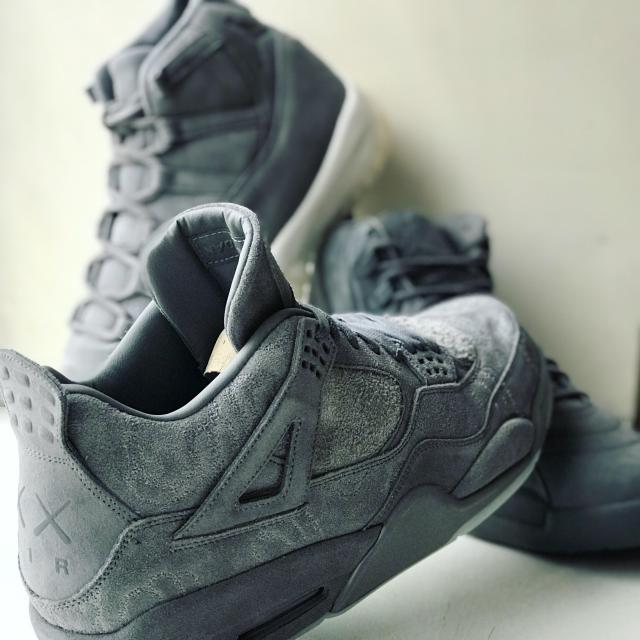shoe: (20, 324, 584, 637), (90, 9, 316, 275)
